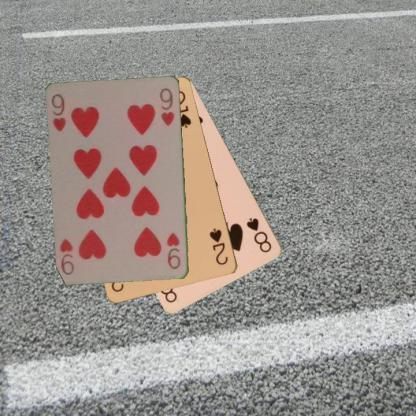2s: (206, 226, 230, 267)
8s: (244, 214, 273, 255)
9h: (49, 92, 68, 134), (164, 230, 182, 270)
